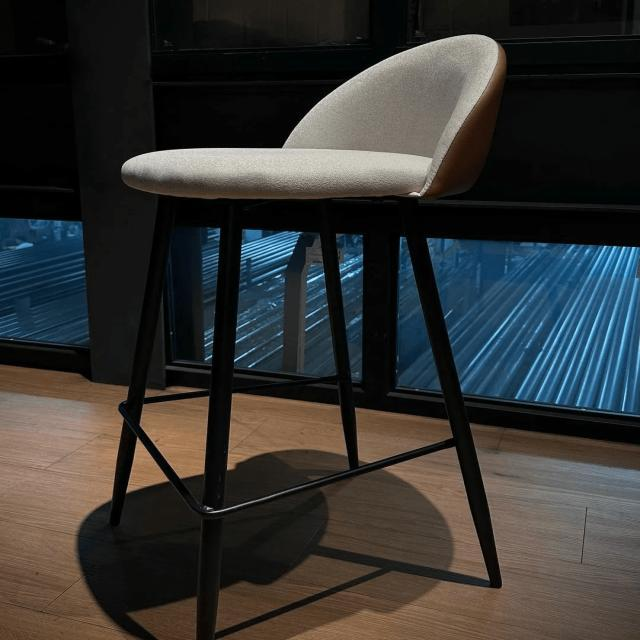chair: (98, 28, 519, 640)
